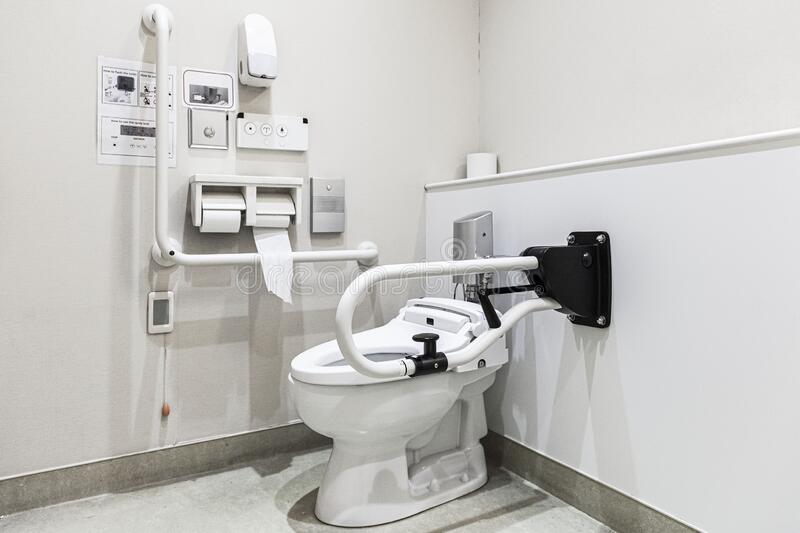dispenser: (235, 13, 277, 91), (252, 183, 298, 230), (198, 184, 244, 231)
restroom_assist_bar: (334, 233, 612, 378), (138, 1, 183, 267), (151, 235, 380, 268)
toilet: (285, 296, 509, 533)
